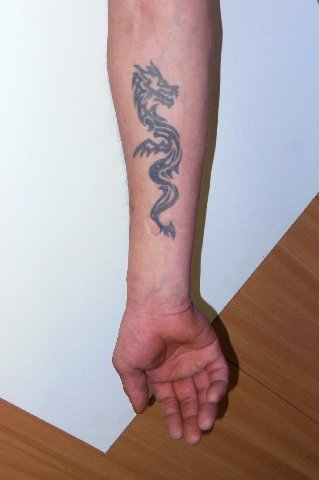tatu6_drakon: (115, 60, 194, 250)
